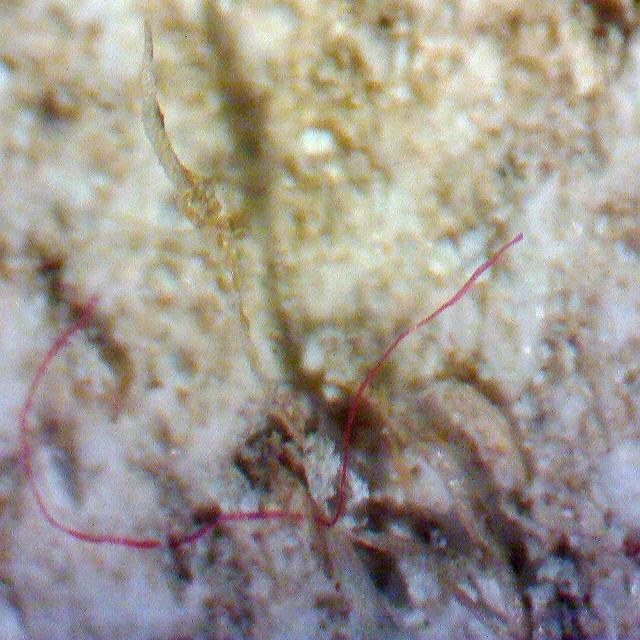microplastic: (4, 232, 553, 561)
